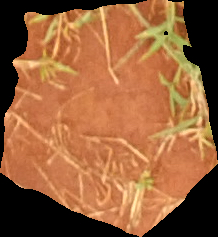soil: (1, 2, 216, 235)
